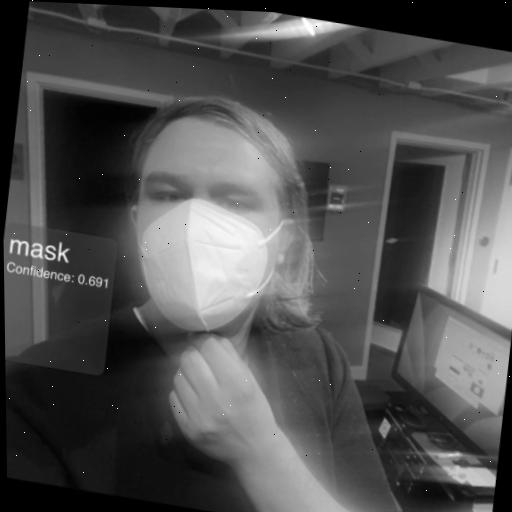mask: (97, 59, 343, 365)
